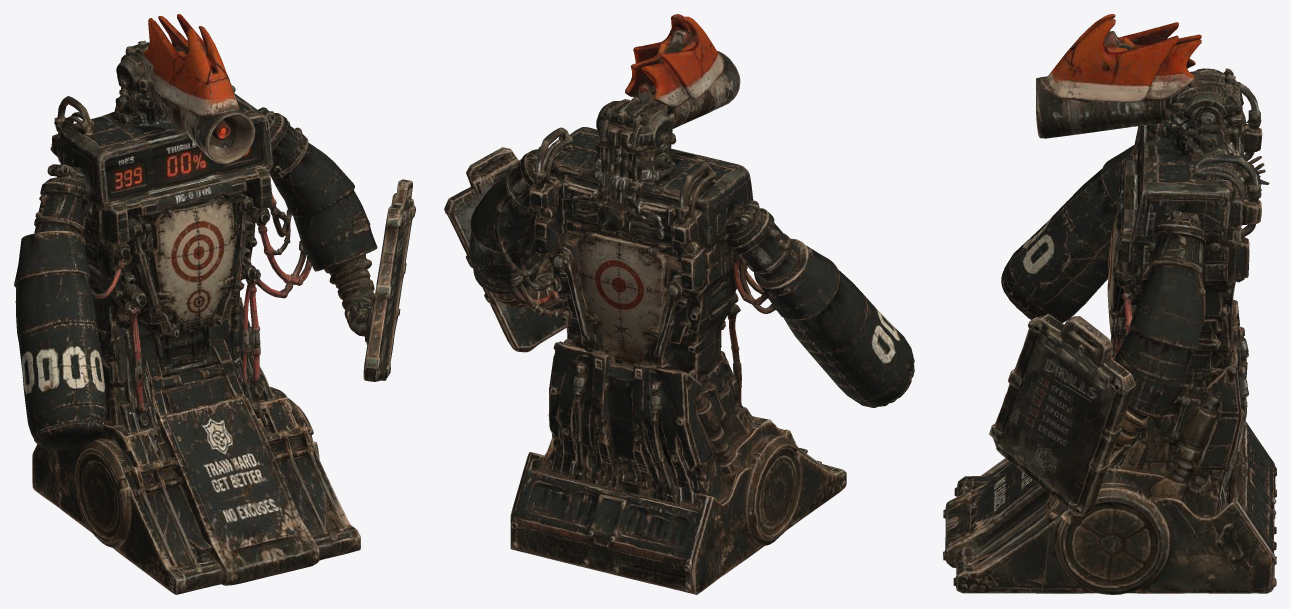
Rendered from head_coach.glb.
The picture shows the model from 3 angles, left to right: view 1: azimuth 30°, elevation 25°; view 2: azimuth 150°, elevation 25°; view 3: azimuth 270°, elevation 25°; orthographic projection. The views are drawn at different scales.
Size of the model in its own units: 1.68 by 1.9 by 1.09.
1 material, 1 textured.
